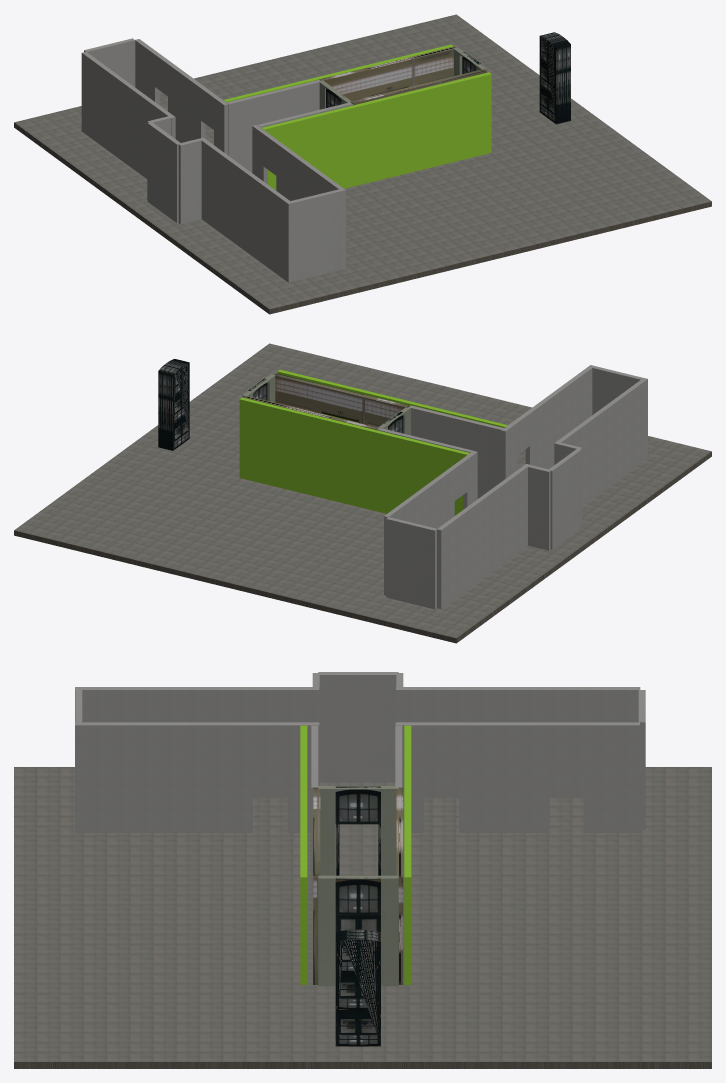
Rendered from building_door.gltf.
3 views of the same model, one above another, from view 1: azimuth 30°, elevation 25°; view 2: azimuth 150°, elevation 25°; view 3: azimuth 270°, elevation 25° (orthographic). The views are drawn at different scales.
Visible parts, largest first — view 1: Box004, Box018, Box007, Box003, Box001, Box008, Box027, Box006, Box017, DoorCutter, Box013, Box011 (+3 smaller); view 2: Box004, Box026, Box003, Box007, Box006, Box002, Box028, Box001, Box029, DoorCutter, Box013, Box012 (+2 smaller); view 3: Box004, Box006, Box001, Box003, Box007, Box013, DoorCutter, Box014, Box016, Door, Box018, Box026 (+5 smaller).
Part boxes in pixels (bbox=[...]): Box004: bbox=[14, 14, 711, 314]; Box018: bbox=[261, 72, 491, 190]; Box007: bbox=[199, 137, 292, 282]; Box003: bbox=[81, 52, 175, 178]; Box001: bbox=[135, 39, 228, 155]; Box008: bbox=[290, 189, 341, 281]; Box027: bbox=[226, 80, 320, 172]; Box006: bbox=[252, 124, 345, 269]; Box017: bbox=[319, 46, 455, 100]; DoorCutter: bbox=[539, 32, 570, 124]; Box013: bbox=[147, 122, 180, 222]; Box011: bbox=[178, 138, 202, 224]; Box004: bbox=[14, 343, 711, 643]; Box026: bbox=[239, 397, 469, 515]; Box003: bbox=[437, 464, 530, 608]; Box007: bbox=[554, 378, 647, 505]; Box006: bbox=[501, 365, 594, 481]; Box002: bbox=[386, 517, 436, 609]; Box028: bbox=[409, 405, 503, 498]; Box001: bbox=[384, 451, 477, 595]; Box029: bbox=[273, 373, 409, 427]; DoorCutter: bbox=[158, 359, 189, 450]; Box013: bbox=[549, 448, 581, 549]; Box012: bbox=[527, 465, 551, 550]; Box004: bbox=[14, 767, 711, 1068]; Box006: bbox=[75, 722, 319, 832]; Box001: bbox=[395, 722, 639, 832]; Box003: bbox=[396, 687, 640, 797]; Box007: bbox=[75, 687, 319, 797]; Box013: bbox=[318, 672, 398, 782]; DoorCutter: bbox=[335, 929, 380, 1046]; Box014: bbox=[318, 875, 398, 986]; Box016: bbox=[318, 786, 398, 875]; Door: bbox=[335, 877, 380, 931]; Box018: bbox=[300, 725, 307, 984]; Box026: bbox=[404, 725, 411, 984].
Size of the model in its own units: 20 by 4.55 by 20.
12 materials, 5 textured.
